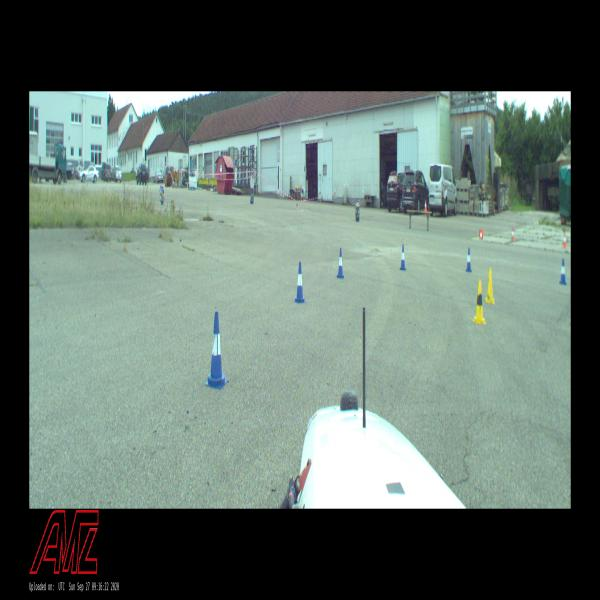blue_cone: (206, 312, 227, 388), (294, 262, 306, 303), (337, 248, 344, 278), (560, 258, 566, 284), (400, 245, 406, 270), (466, 248, 471, 271)
orange_cone: (511, 227, 515, 241), (563, 234, 567, 247), (479, 230, 483, 240), (425, 200, 427, 212)
yellow_cone: (473, 280, 486, 324), (486, 268, 494, 303)
